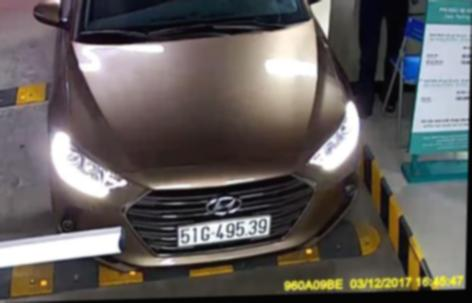License_Plate: (176, 216, 274, 245)
